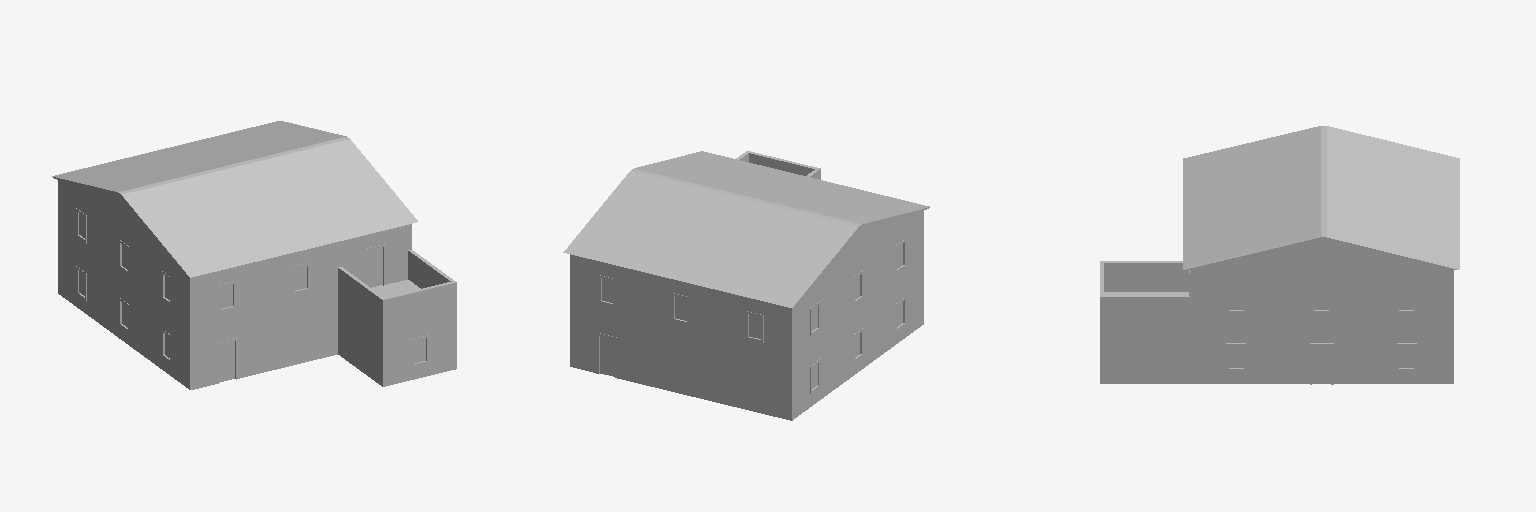
File: Bancroft.obj
3 renders of one model, left to right at view 1: azimuth 30°, elevation 25°; view 2: azimuth 150°, elevation 25°; view 3: azimuth 270°, elevation 25°, orthographic.
Visible parts, largest first — view 1: 1F.014_Plane.005; view 2: 1F.014_Plane.005; view 3: 1F.014_Plane.005.
Boxes of the visible parts, <box> form: 1F.014_Plane.005: <box>52,121,456,389</box>; 1F.014_Plane.005: <box>563,151,929,420</box>; 1F.014_Plane.005: <box>1100,126,1459,384</box>.
Size of the model in its own units: 12.4 by 7.7 by 16.94.